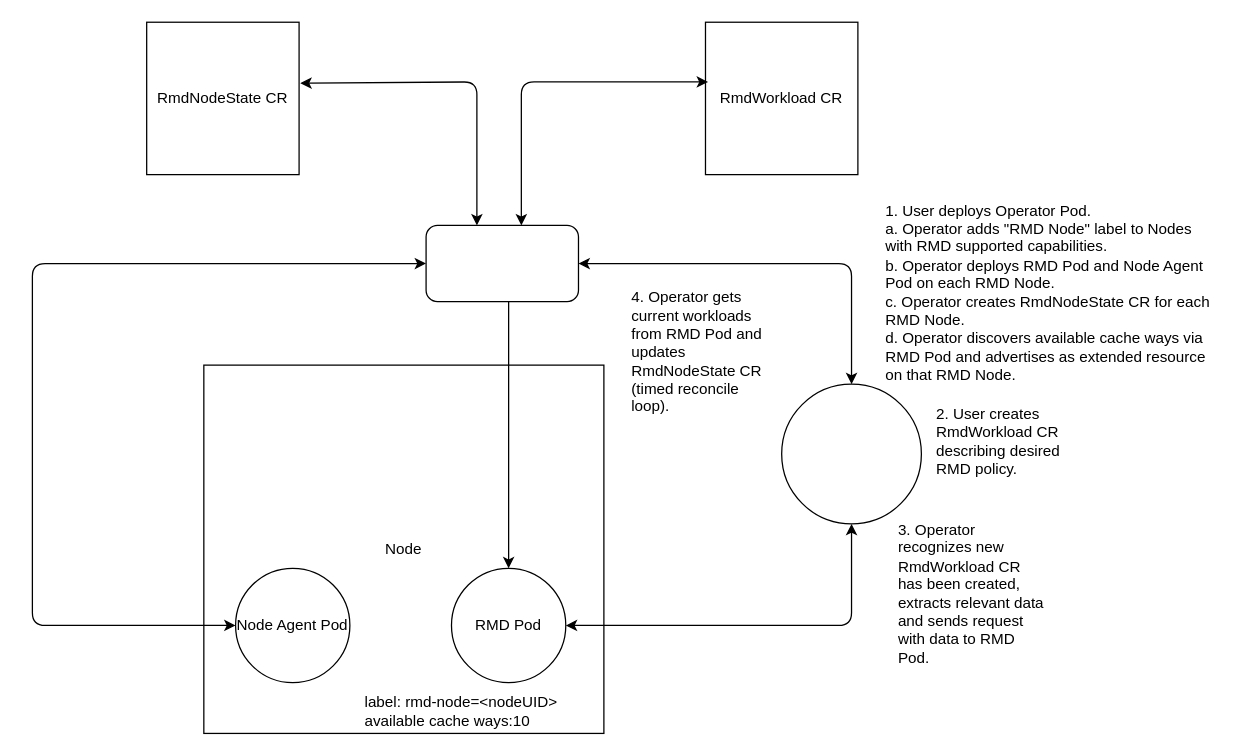
The diagram is 1236 pixels wide and 756 high, and some of its shapes have lost their labels. The shapes that lost their labels are listed below. From the top down, each one's centre as x and y in pixels, then its label:
the point at 501,263: K8s API
the point at 850,453: Operator Pod
